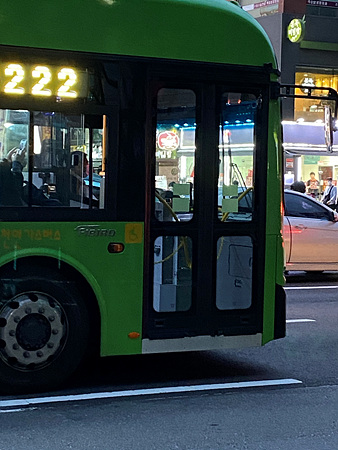entrance: (140, 62, 267, 329)
